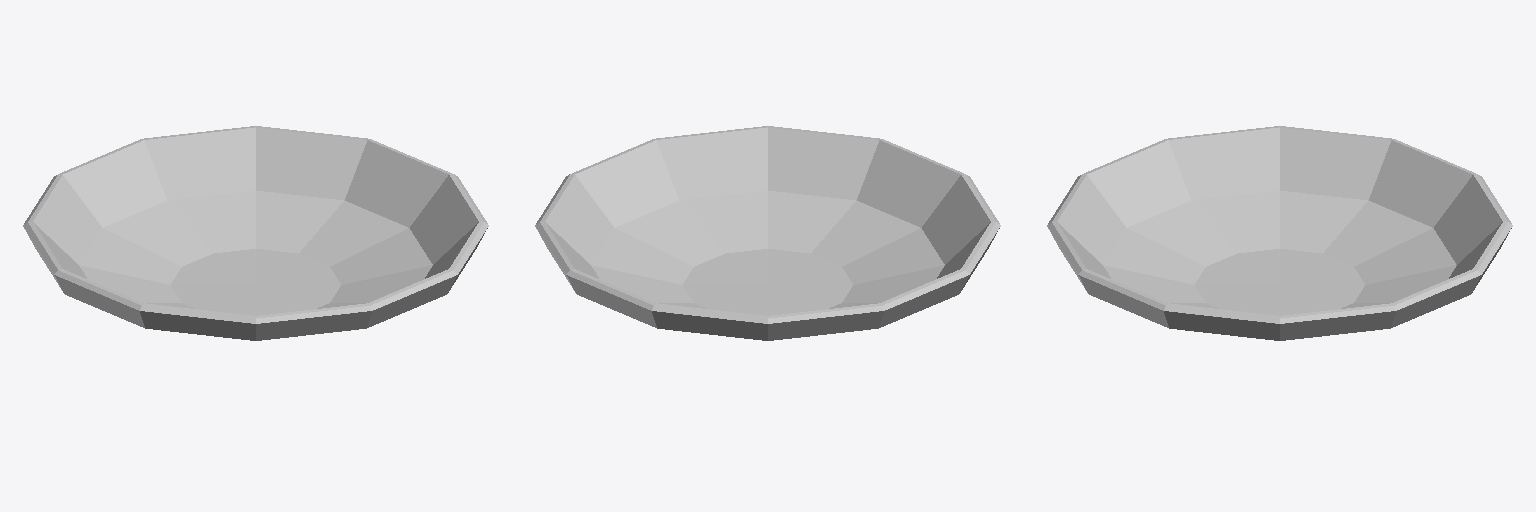
Rendered from Pot01.obj.
3 renders of one model, left to right at view 1: azimuth 30°, elevation 25°; view 2: azimuth 150°, elevation 25°; view 3: azimuth 270°, elevation 25°, orthographic.
Visible parts, largest first — view 1: Sphere003; view 2: Sphere003; view 3: Sphere003.
Part boxes in pixels (bbox=[...]): Sphere003: bbox=[23, 126, 488, 340]; Sphere003: bbox=[535, 126, 1000, 340]; Sphere003: bbox=[1047, 126, 1512, 340].
Bounding box in the file's own units: 1.04 × 0.1696 × 1.04.